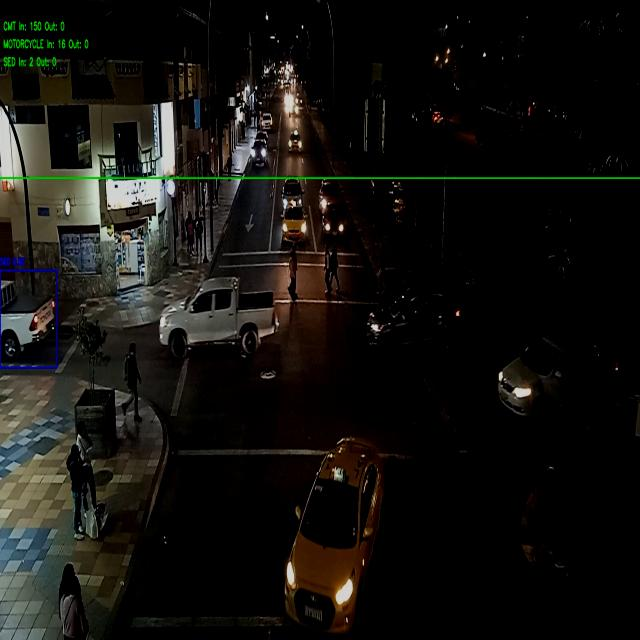CMT: (160, 280, 277, 348), (0, 279, 54, 352)
SED: (286, 444, 377, 627), (499, 332, 585, 412)
SUV: (368, 289, 458, 350), (252, 140, 267, 165), (262, 114, 272, 132)
